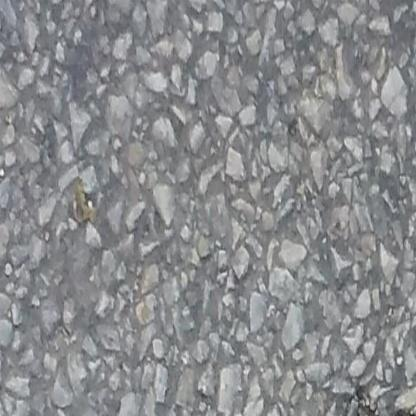Cracks: (335, 384, 416, 416)
